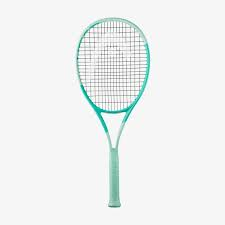tennis racket: (75, 16, 153, 209)
